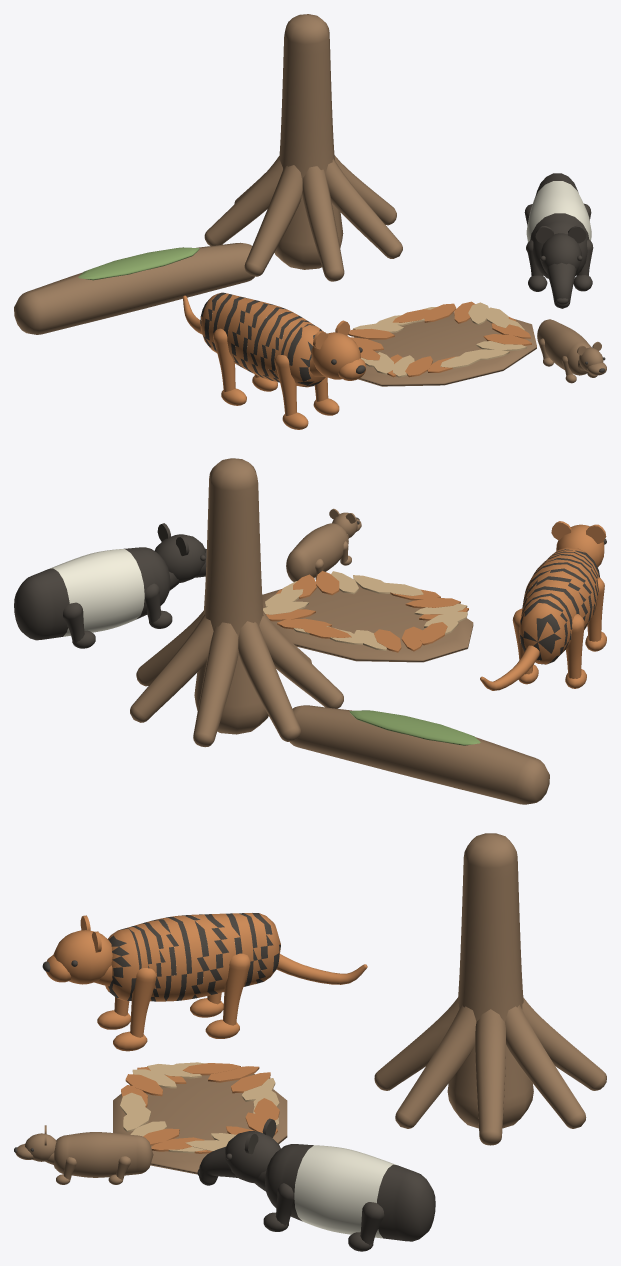
Rendered from rainforest-and-jungle-fauna-forest-floor-buttress-root-756f7b33__21699.glb.
The picture shows the model from 3 angles, top to bottom: view 1: azimuth 30°, elevation 25°; view 2: azimuth 150°, elevation 25°; view 3: azimuth 270°, elevation 25°; orthographic projection. The views are drawn at different scales.
Parts seen in each view (by area): view 1: 000-buttress-root-trunk-base/0, 001-bengal-tiger/1, 005-fallen-mossy-log/0, 004-leaf-litter-mound/0, 002-malayan-tapir/0, 004-leaf-litter-mound/1, 001-bengal-tiger/0, 004-leaf-litter-mound/2, 003-capybara/0, 002-malayan-tapir/1, 005-fallen-mossy-log/1; view 2: 000-buttress-root-trunk-base/0, 005-fallen-mossy-log/0, 001-bengal-tiger/1, 002-malayan-tapir/0, 004-leaf-litter-mound/0, 002-malayan-tapir/1, 004-leaf-litter-mound/1, 004-leaf-litter-mound/2, 003-capybara/0, 001-bengal-tiger/0, 005-fallen-mossy-log/1; view 3: 000-buttress-root-trunk-base/0, 001-bengal-tiger/1, 002-malayan-tapir/0, 004-leaf-litter-mound/0, 002-malayan-tapir/1, 003-capybara/0, 001-bengal-tiger/0, 004-leaf-litter-mound/1, 004-leaf-litter-mound/2.
Part boxes in pixels (x1=…): 000-buttress-root-trunk-base/0: x1=204, y1=14, x2=402, y2=281; 001-bengal-tiger/1: x1=182, y1=292, x2=365, y2=429; 005-fallen-mossy-log/0: x1=14, y1=242, x2=254, y2=334; 004-leaf-litter-mound/0: x1=354, y1=312, x2=536, y2=386; 002-malayan-tapir/0: x1=524, y1=173, x2=593, y2=308; 004-leaf-litter-mound/1: x1=348, y1=301, x2=531, y2=377; 001-bengal-tiger/0: x1=200, y1=292, x2=365, y2=386; 004-leaf-litter-mound/2: x1=353, y1=302, x2=526, y2=377; 003-capybara/0: x1=537, y1=319, x2=606, y2=383; 002-malayan-tapir/1: x1=526, y1=181, x2=591, y2=242; 005-fallen-mossy-log/1: x1=78, y1=247, x2=199, y2=280; 000-buttress-root-trunk-base/0: x1=130, y1=458, x2=343, y2=747; 005-fallen-mossy-log/0: x1=290, y1=705, x2=549, y2=804; 001-bengal-tiger/1: x1=480, y1=521, x2=606, y2=690; 002-malayan-tapir/0: x1=14, y1=523, x2=206, y2=648; 004-leaf-litter-mound/0: x1=262, y1=584, x2=473, y2=662; 002-malayan-tapir/1: x1=49, y1=549, x2=144, y2=636; 004-leaf-litter-mound/1: x1=266, y1=571, x2=468, y2=652; 004-leaf-litter-mound/2: x1=263, y1=571, x2=467, y2=650; 003-capybara/0: x1=286, y1=508, x2=361, y2=581; 001-bengal-tiger/0: x1=520, y1=539, x2=606, y2=664; 005-fallen-mossy-log/1: x1=349, y1=710, x2=480, y2=745; 000-buttress-root-trunk-base/0: x1=374, y1=833, x2=606, y2=1145; 001-bengal-tiger/1: x1=46, y1=913, x2=367, y2=1051; 002-malayan-tapir/0: x1=197, y1=1118, x2=435, y2=1251; 004-leaf-litter-mound/0: x1=113, y1=1073, x2=287, y2=1174; 002-malayan-tapir/1: x1=294, y1=1145, x2=395, y2=1238; 003-capybara/0: x1=15, y1=1125, x2=153, y2=1184; 001-bengal-tiger/0: x1=42, y1=913, x2=280, y2=1001; 004-leaf-litter-mound/1: x1=121, y1=1063, x2=279, y2=1153; 004-leaf-litter-mound/2: x1=120, y1=1062, x2=279, y2=1153.
Size of the model in its own units: 6.05 by 2.77 by 5.1.
